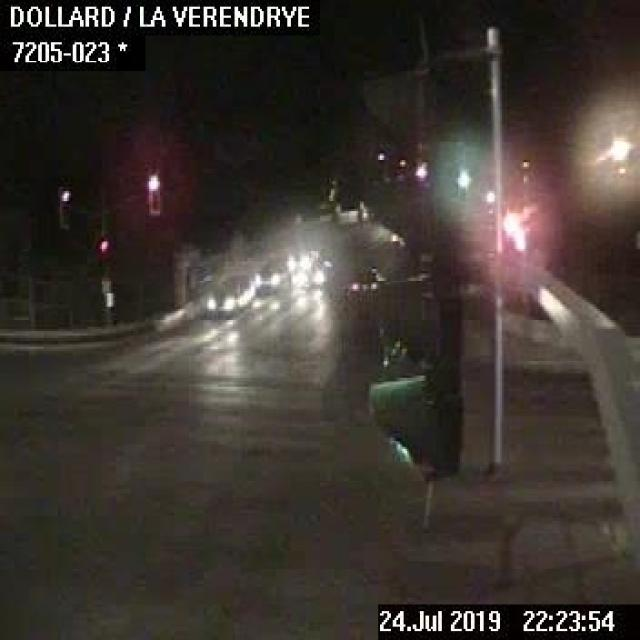vehicle: (251, 254, 293, 294), (348, 262, 384, 298), (198, 279, 237, 311), (292, 263, 326, 291)
